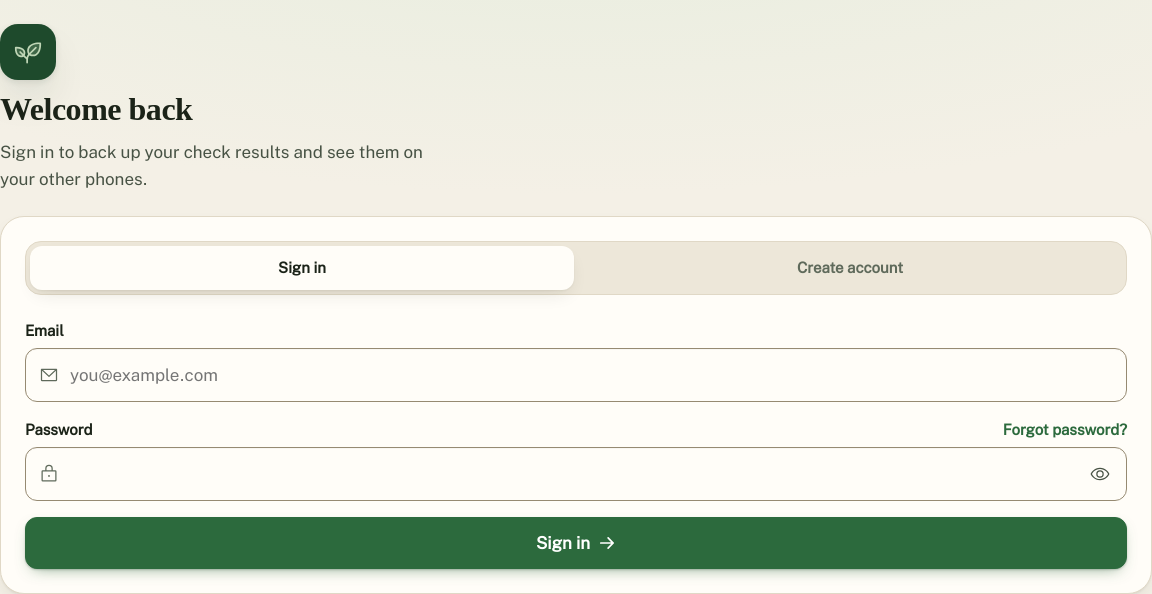
create account › requires the 13+ confirmation and a strong password
The width and height of the screenshot is (1152, 594).
Click the tab "Create account" at [850, 268], box [578,246,1122,290]
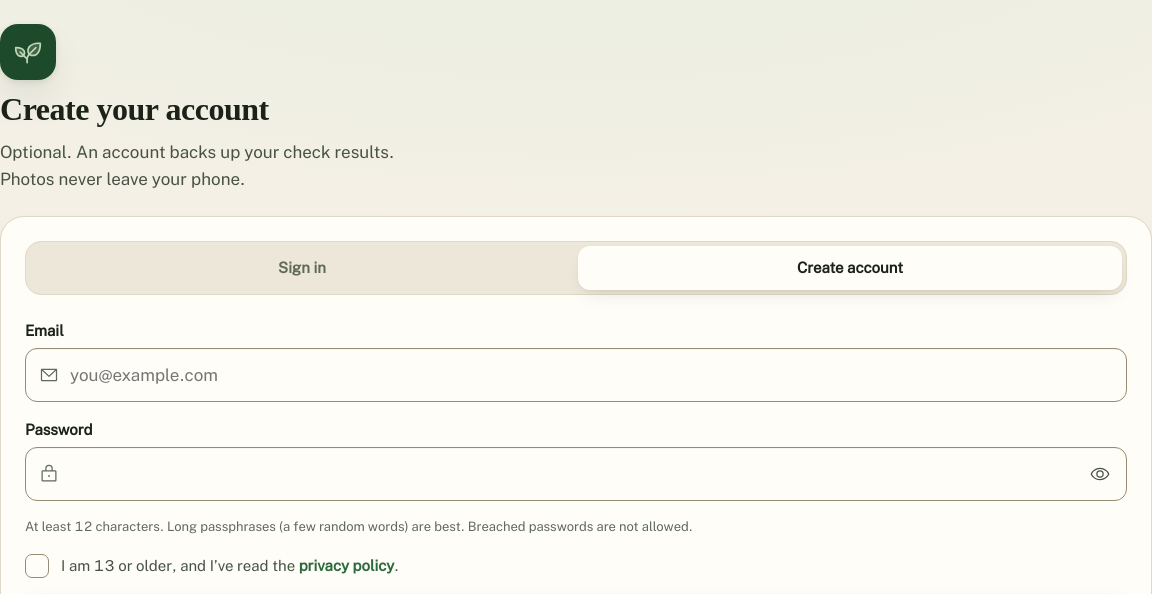
Type "new@example.com" into the field labelled "Email" at [576, 375], box [25,348,1127,402]
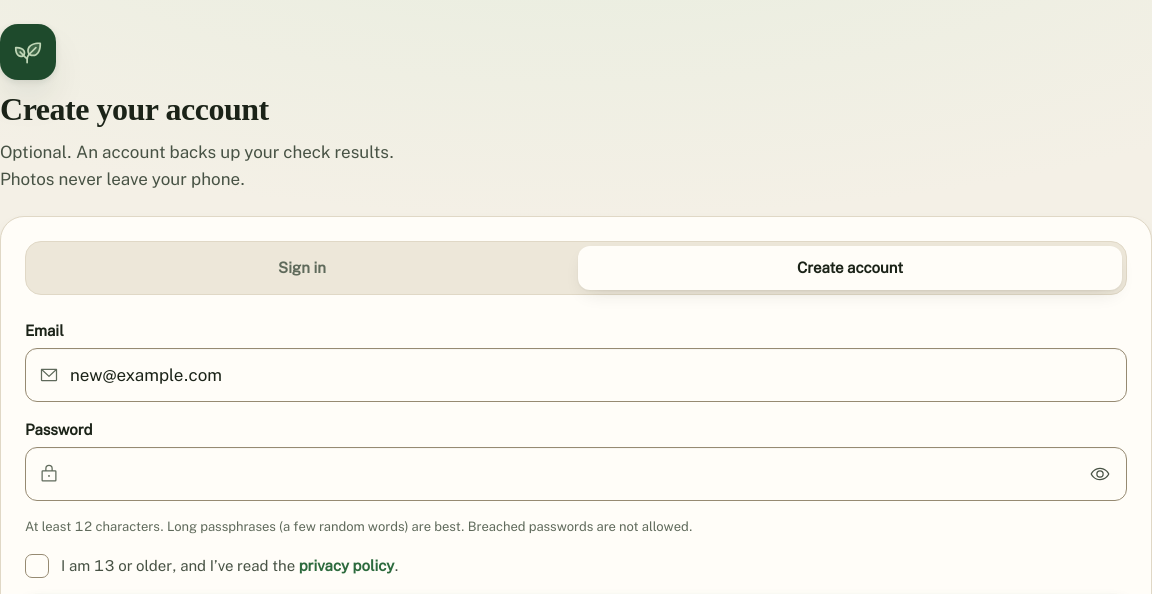
Type "fern lettuce compost wren" into the password field labelled "Password" at [576, 474], box [25,447,1127,501]
(page scrolled)
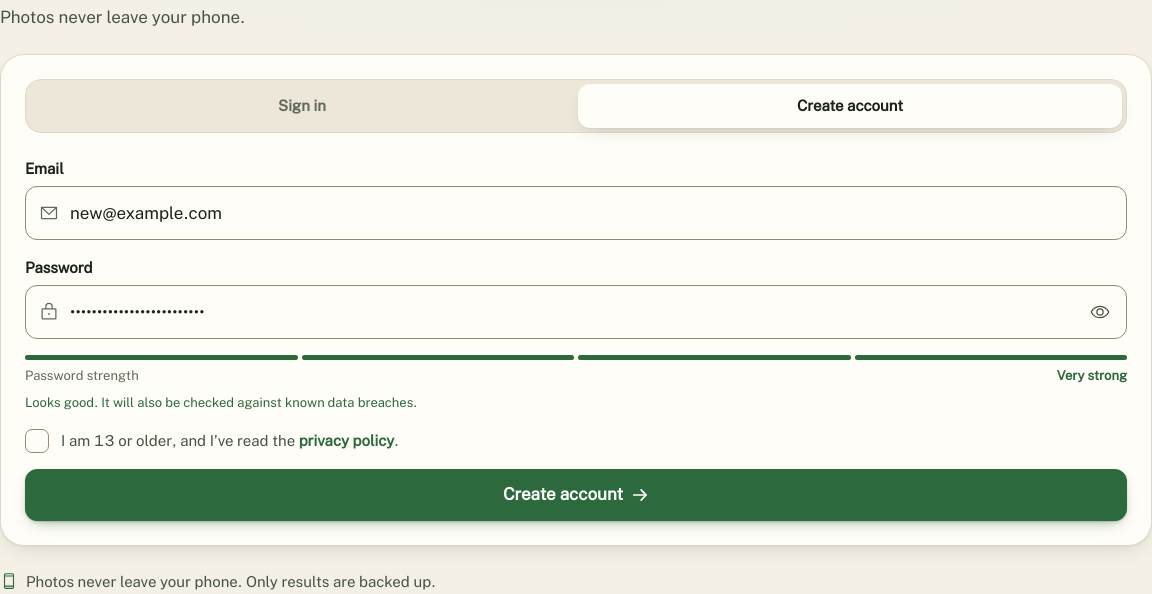
Click the button "Create account" at [576, 495], box [25,469,1127,521]
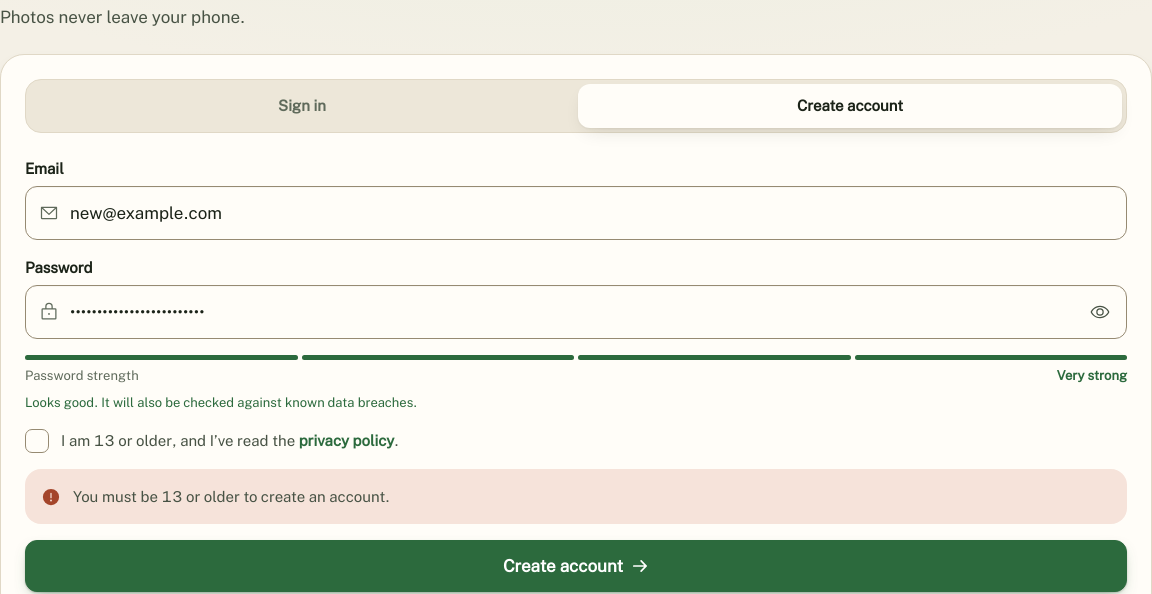
Check: the text "You must be 13 or older to create an account." is shown, box [73,485,390,508]
Type "short" into the password field labelled "Password" at [576, 312], box [25,285,1127,339]
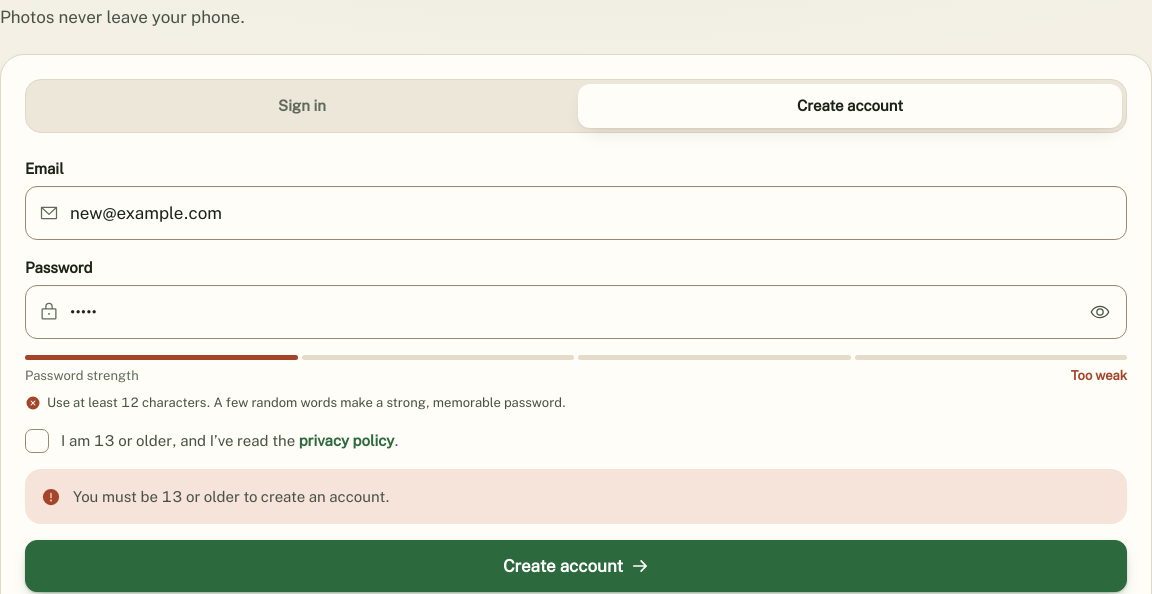
Check: the list item "at least 12 characters" is shown, box [47,394,566,410]
